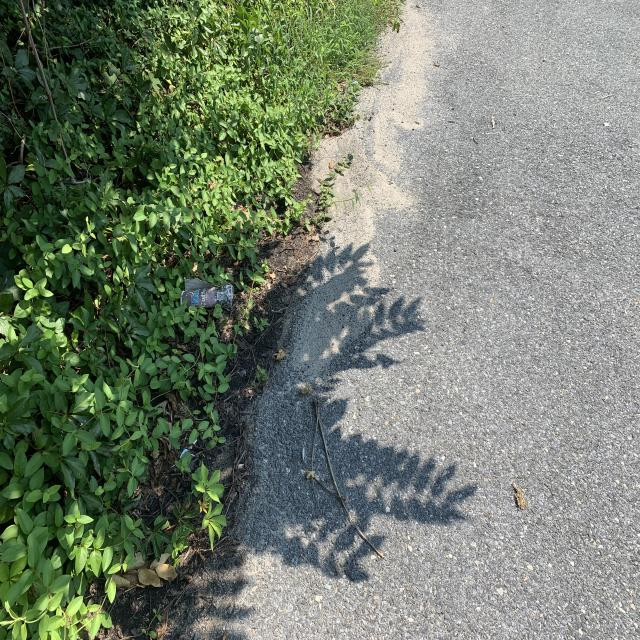Cup: (176, 281, 238, 312)
